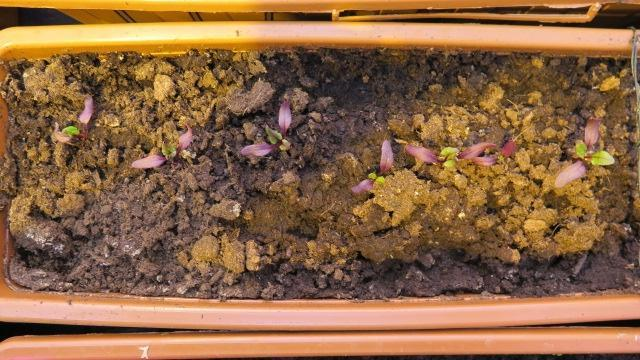crop: (548, 116, 619, 189), (235, 97, 295, 157), (126, 119, 196, 170), (345, 135, 392, 194), (47, 92, 97, 144)
